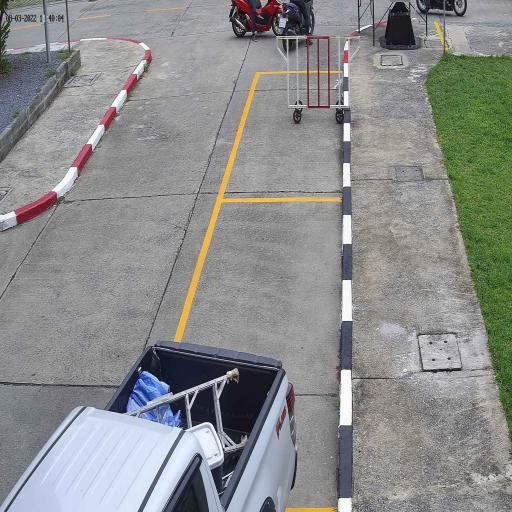car: (0, 340, 299, 512)
motorcycle: (231, 0, 284, 38), (278, 0, 315, 53), (416, 0, 468, 17)
